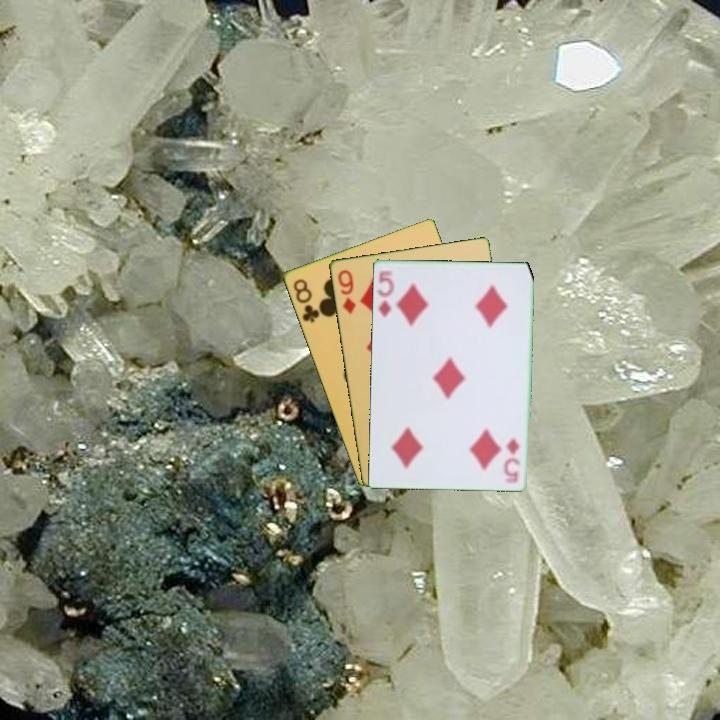5d: (373, 266, 397, 320), (503, 434, 523, 485)
8c: (289, 275, 322, 325)
9d: (334, 266, 358, 317)
